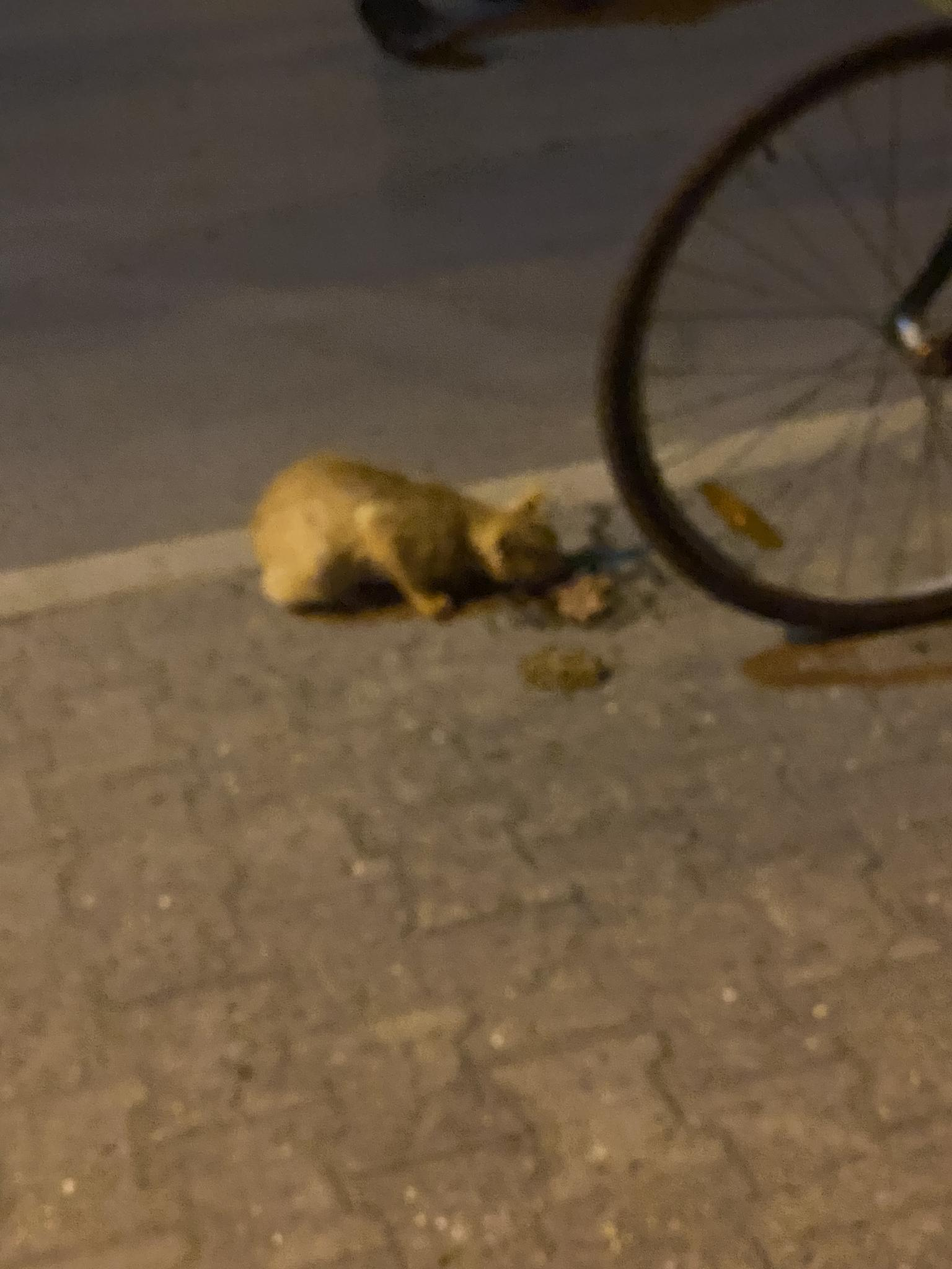macka: (249, 452, 563, 620)
